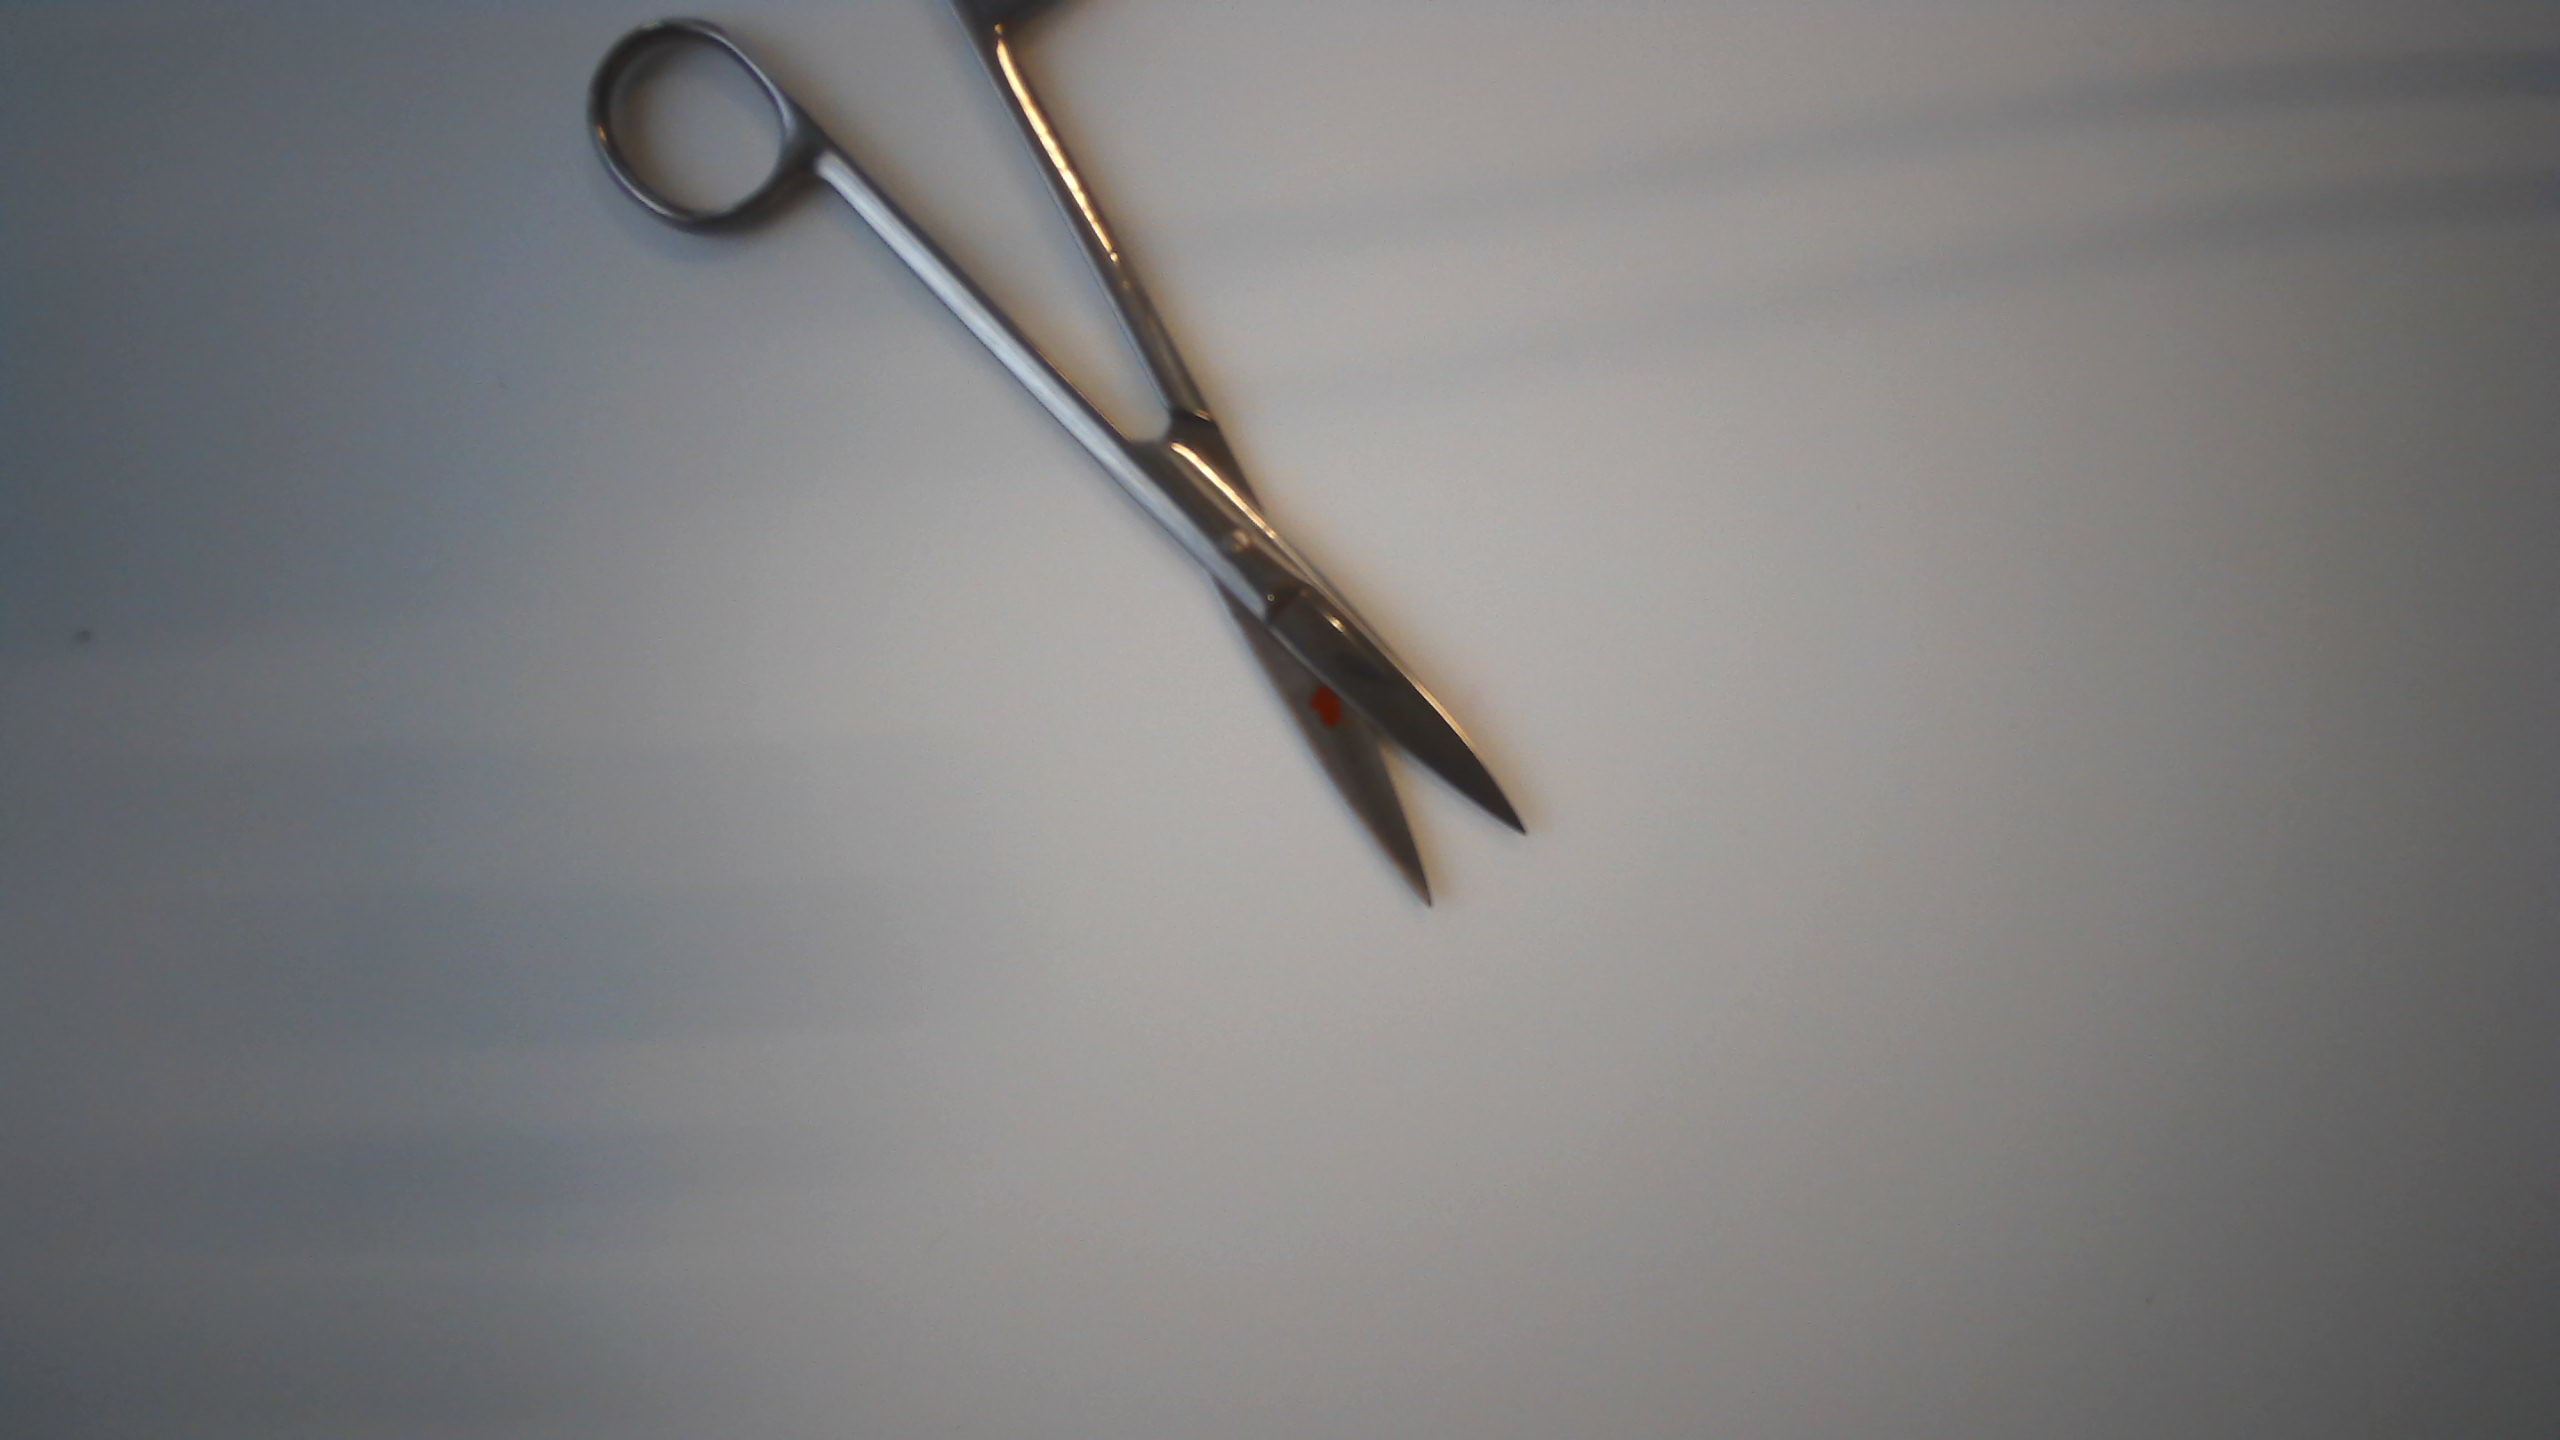Stain: (1303, 677, 1363, 740)
